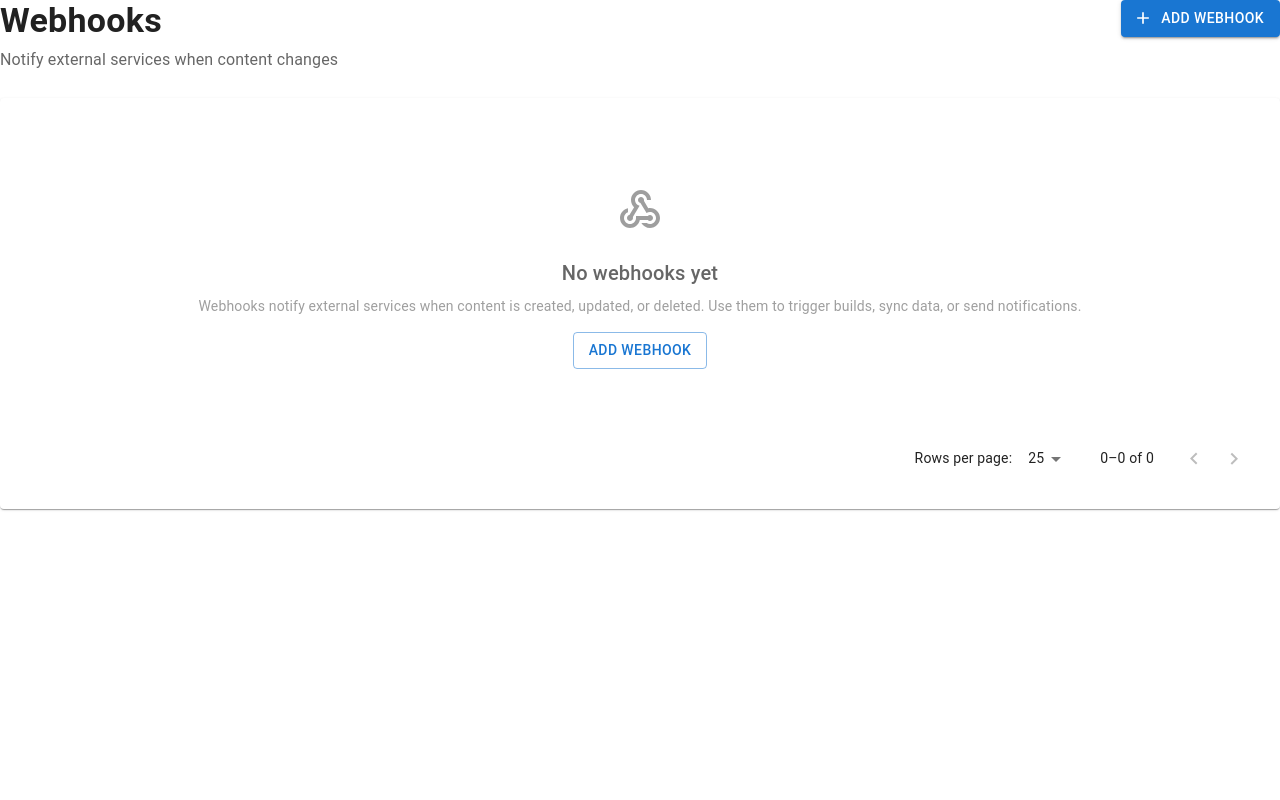
WebhooksPage › opens create dialog on add click
The width and height of the screenshot is (1280, 800).
Click the 1st button "Add Webhook": (1201, 18) [1121,0,1279,36]
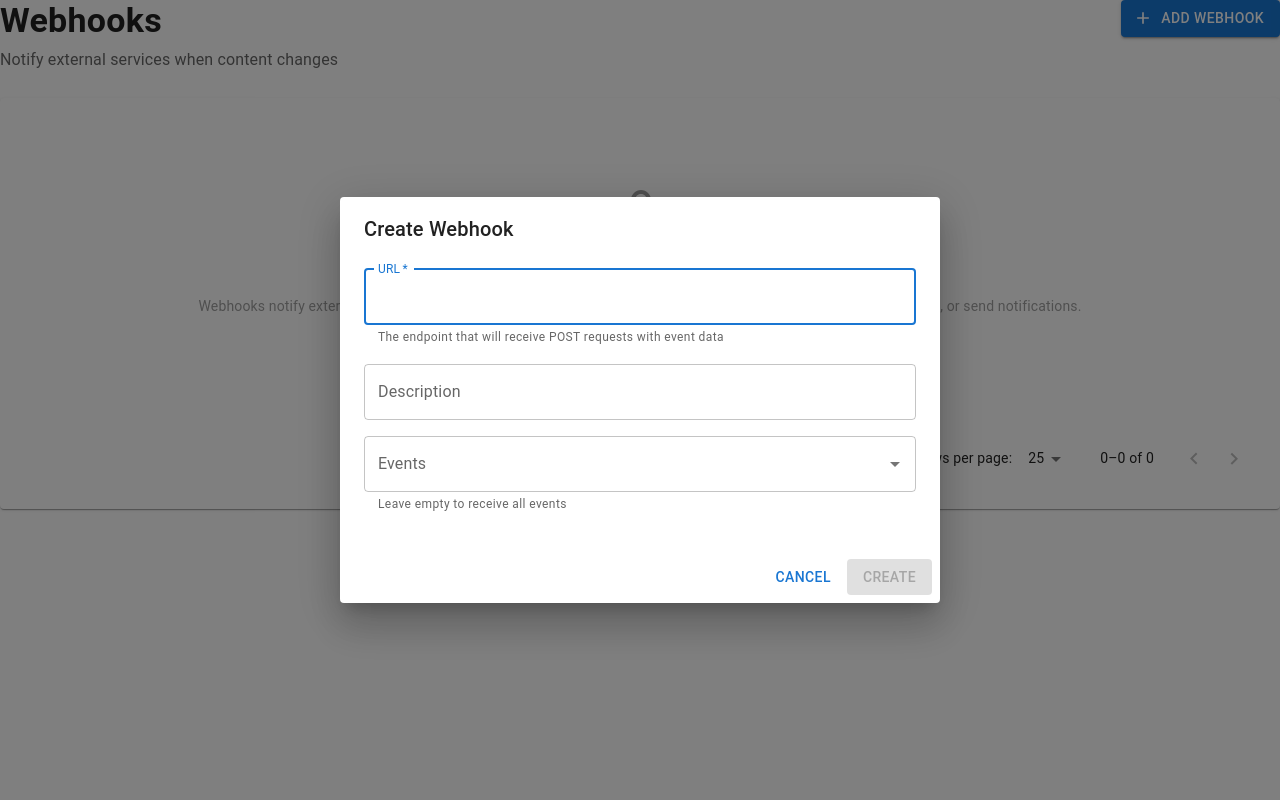
Expected: the dialog is shown, [340,197,940,603]
